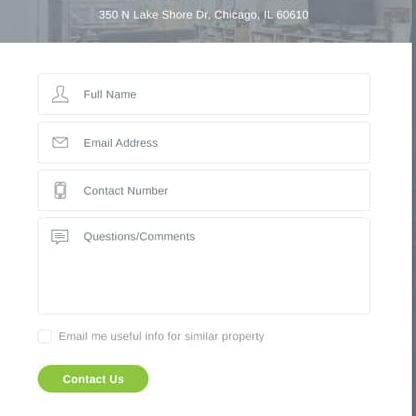button: (38, 363, 147, 393)
checkbox: (36, 329, 52, 343)
checkbox_with_label: (35, 328, 261, 344)
field: (36, 217, 371, 316), (37, 72, 371, 115), (37, 169, 371, 212), (37, 122, 372, 164)
